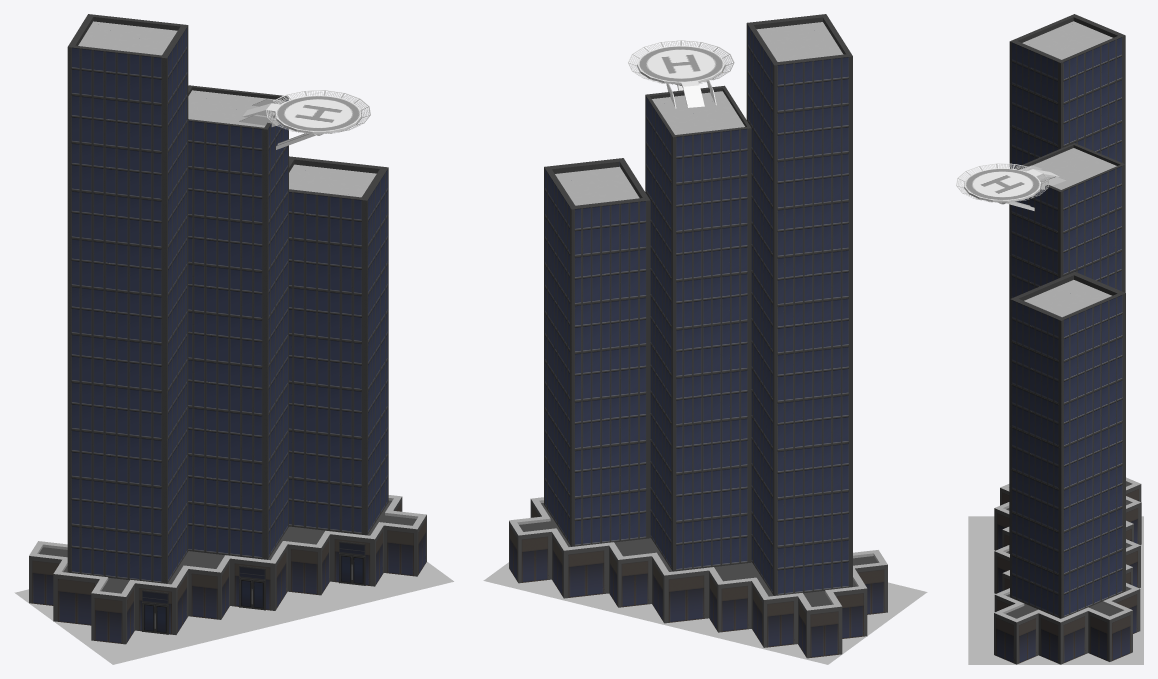
The model's file is Business_Center_Huge.fbx.
3 views of the same model, side by side, from view 1: azimuth 30°, elevation 25°; view 2: azimuth 150°, elevation 25°; view 3: azimuth 270°, elevation 25° (orthographic). The views are drawn at different scales.
Parts seen in each view (by area): view 1: Business_Center_Huge, Business_Center_Huge_BG, HelicopterPlace, Door_002, Door_003, Door_001, HelicopterPlace_Alpha_DoubleSided; view 2: Business_Center_Huge, Business_Center_Huge_BG, HelicopterPlace, HelicopterPlace_Alpha_DoubleSided; view 3: Business_Center_Huge, Business_Center_Huge_BG, HelicopterPlace, HelicopterPlace_Alpha_DoubleSided.
Part boxes in pixels (bbox=[...]): Business_Center_Huge: bbox=[29, 14, 426, 644]; Business_Center_Huge_BG: bbox=[14, 562, 453, 664]; HelicopterPlace: bbox=[239, 95, 361, 149]; Door_002: bbox=[339, 541, 365, 585]; Door_003: bbox=[142, 589, 168, 634]; Door_001: bbox=[239, 565, 265, 610]; HelicopterPlace_Alpha_DoubleSided: bbox=[266, 90, 370, 134]; Business_Center_Huge: bbox=[509, 14, 887, 658]; Business_Center_Huge_BG: bbox=[483, 562, 927, 664]; HelicopterPlace: bbox=[637, 45, 724, 108]; HelicopterPlace_Alpha_DoubleSided: bbox=[628, 40, 734, 85]; Business_Center_Huge: bbox=[994, 14, 1141, 664]; Business_Center_Huge_BG: bbox=[968, 516, 1143, 664]; HelicopterPlace: bbox=[964, 165, 1066, 210]; HelicopterPlace_Alpha_DoubleSided: bbox=[956, 163, 1049, 202].
Size of the model in its own units: 4000 by 6392 by 2140.
